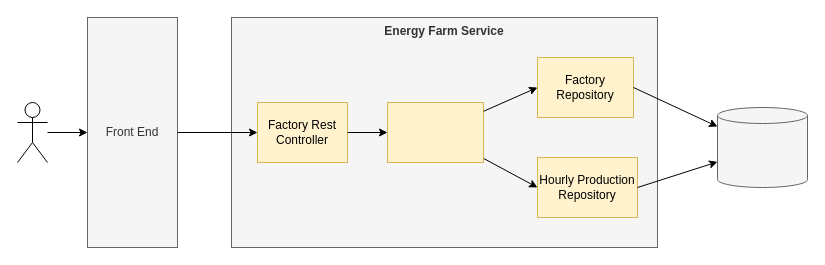
The diagram is 825 pixels wide and 265 high, and some of its shapes have lost their labels. Here are the shapes that lost their labels. From the top down, the centre of each, then its label:
At [32,132]: "User".
At [435,132]: "Factory Service".
At [762,147]: "PostgreSQL Database".
